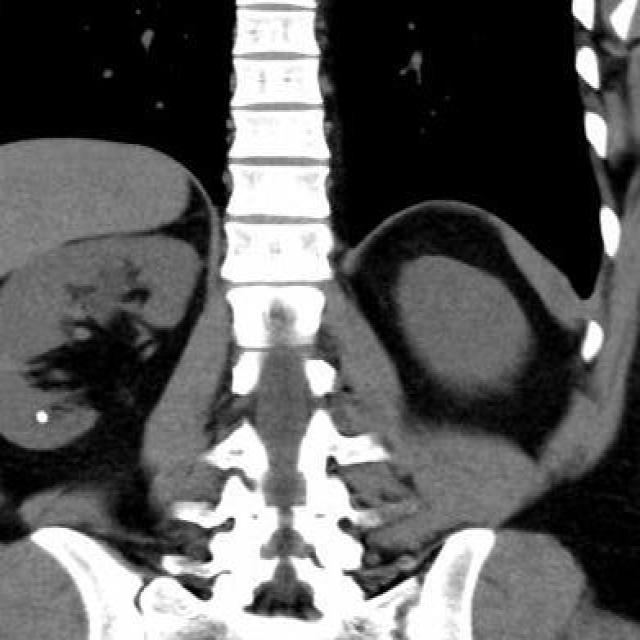Tas_Var: (30, 406, 53, 428)
